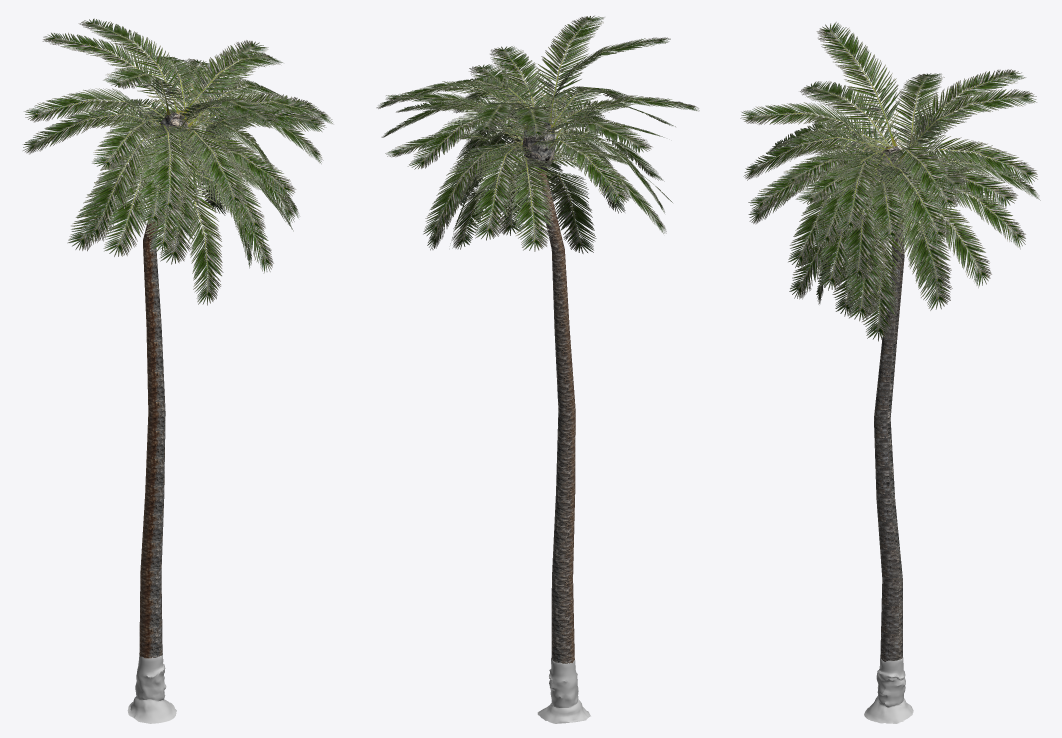
File: Palmlow2.obj
3 renders of one model, left to right at view 1: azimuth 30°, elevation 25°; view 2: azimuth 150°, elevation 25°; view 3: azimuth 270°, elevation 25°, orthographic. The views are drawn at different scales.
Parts seen in each view (by area): view 1: PALMLOW2_Icosphere.002; view 2: PALMLOW2_Icosphere.002; view 3: PALMLOW2_Icosphere.002.
Boxes of the visible parts, box(x1,y1,x2,y2) form: PALMLOW2_Icosphere.002: box(22, 18, 333, 723); PALMLOW2_Icosphere.002: box(376, 15, 699, 723); PALMLOW2_Icosphere.002: box(740, 21, 1040, 723).
Bounding box in the file's own units: 1.98 × 4.56 × 1.97.
